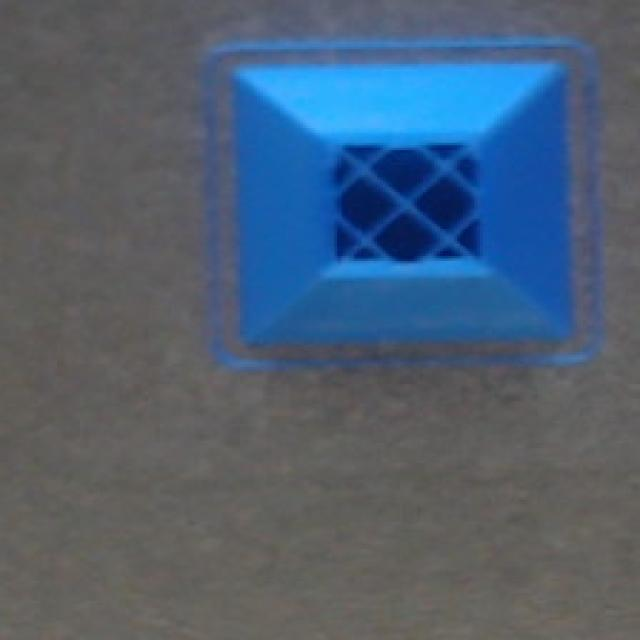noMistake: (206, 39, 597, 367)
